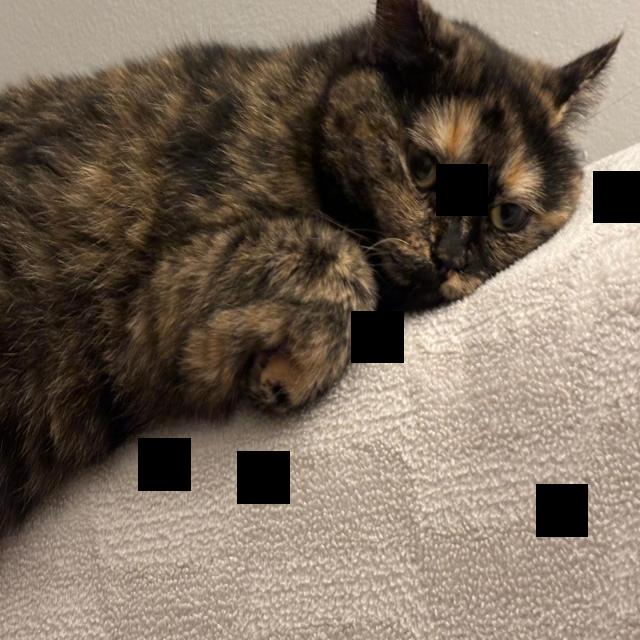authorized: (0, 0, 624, 541)
